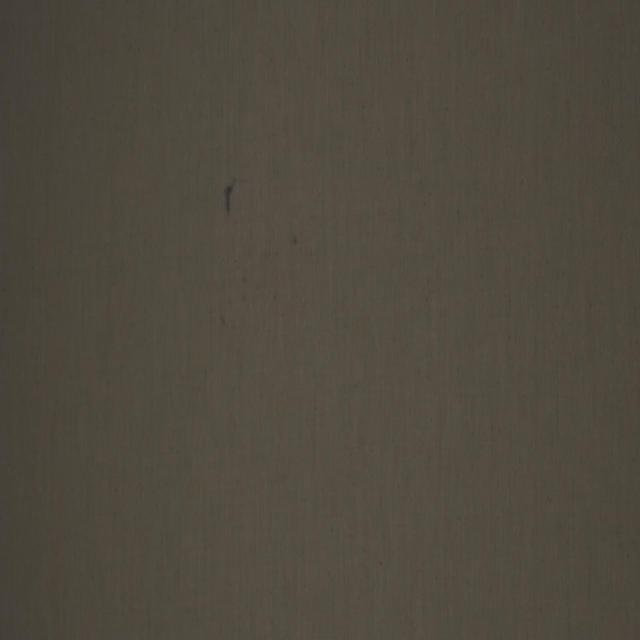dirty: (222, 174, 237, 218)
